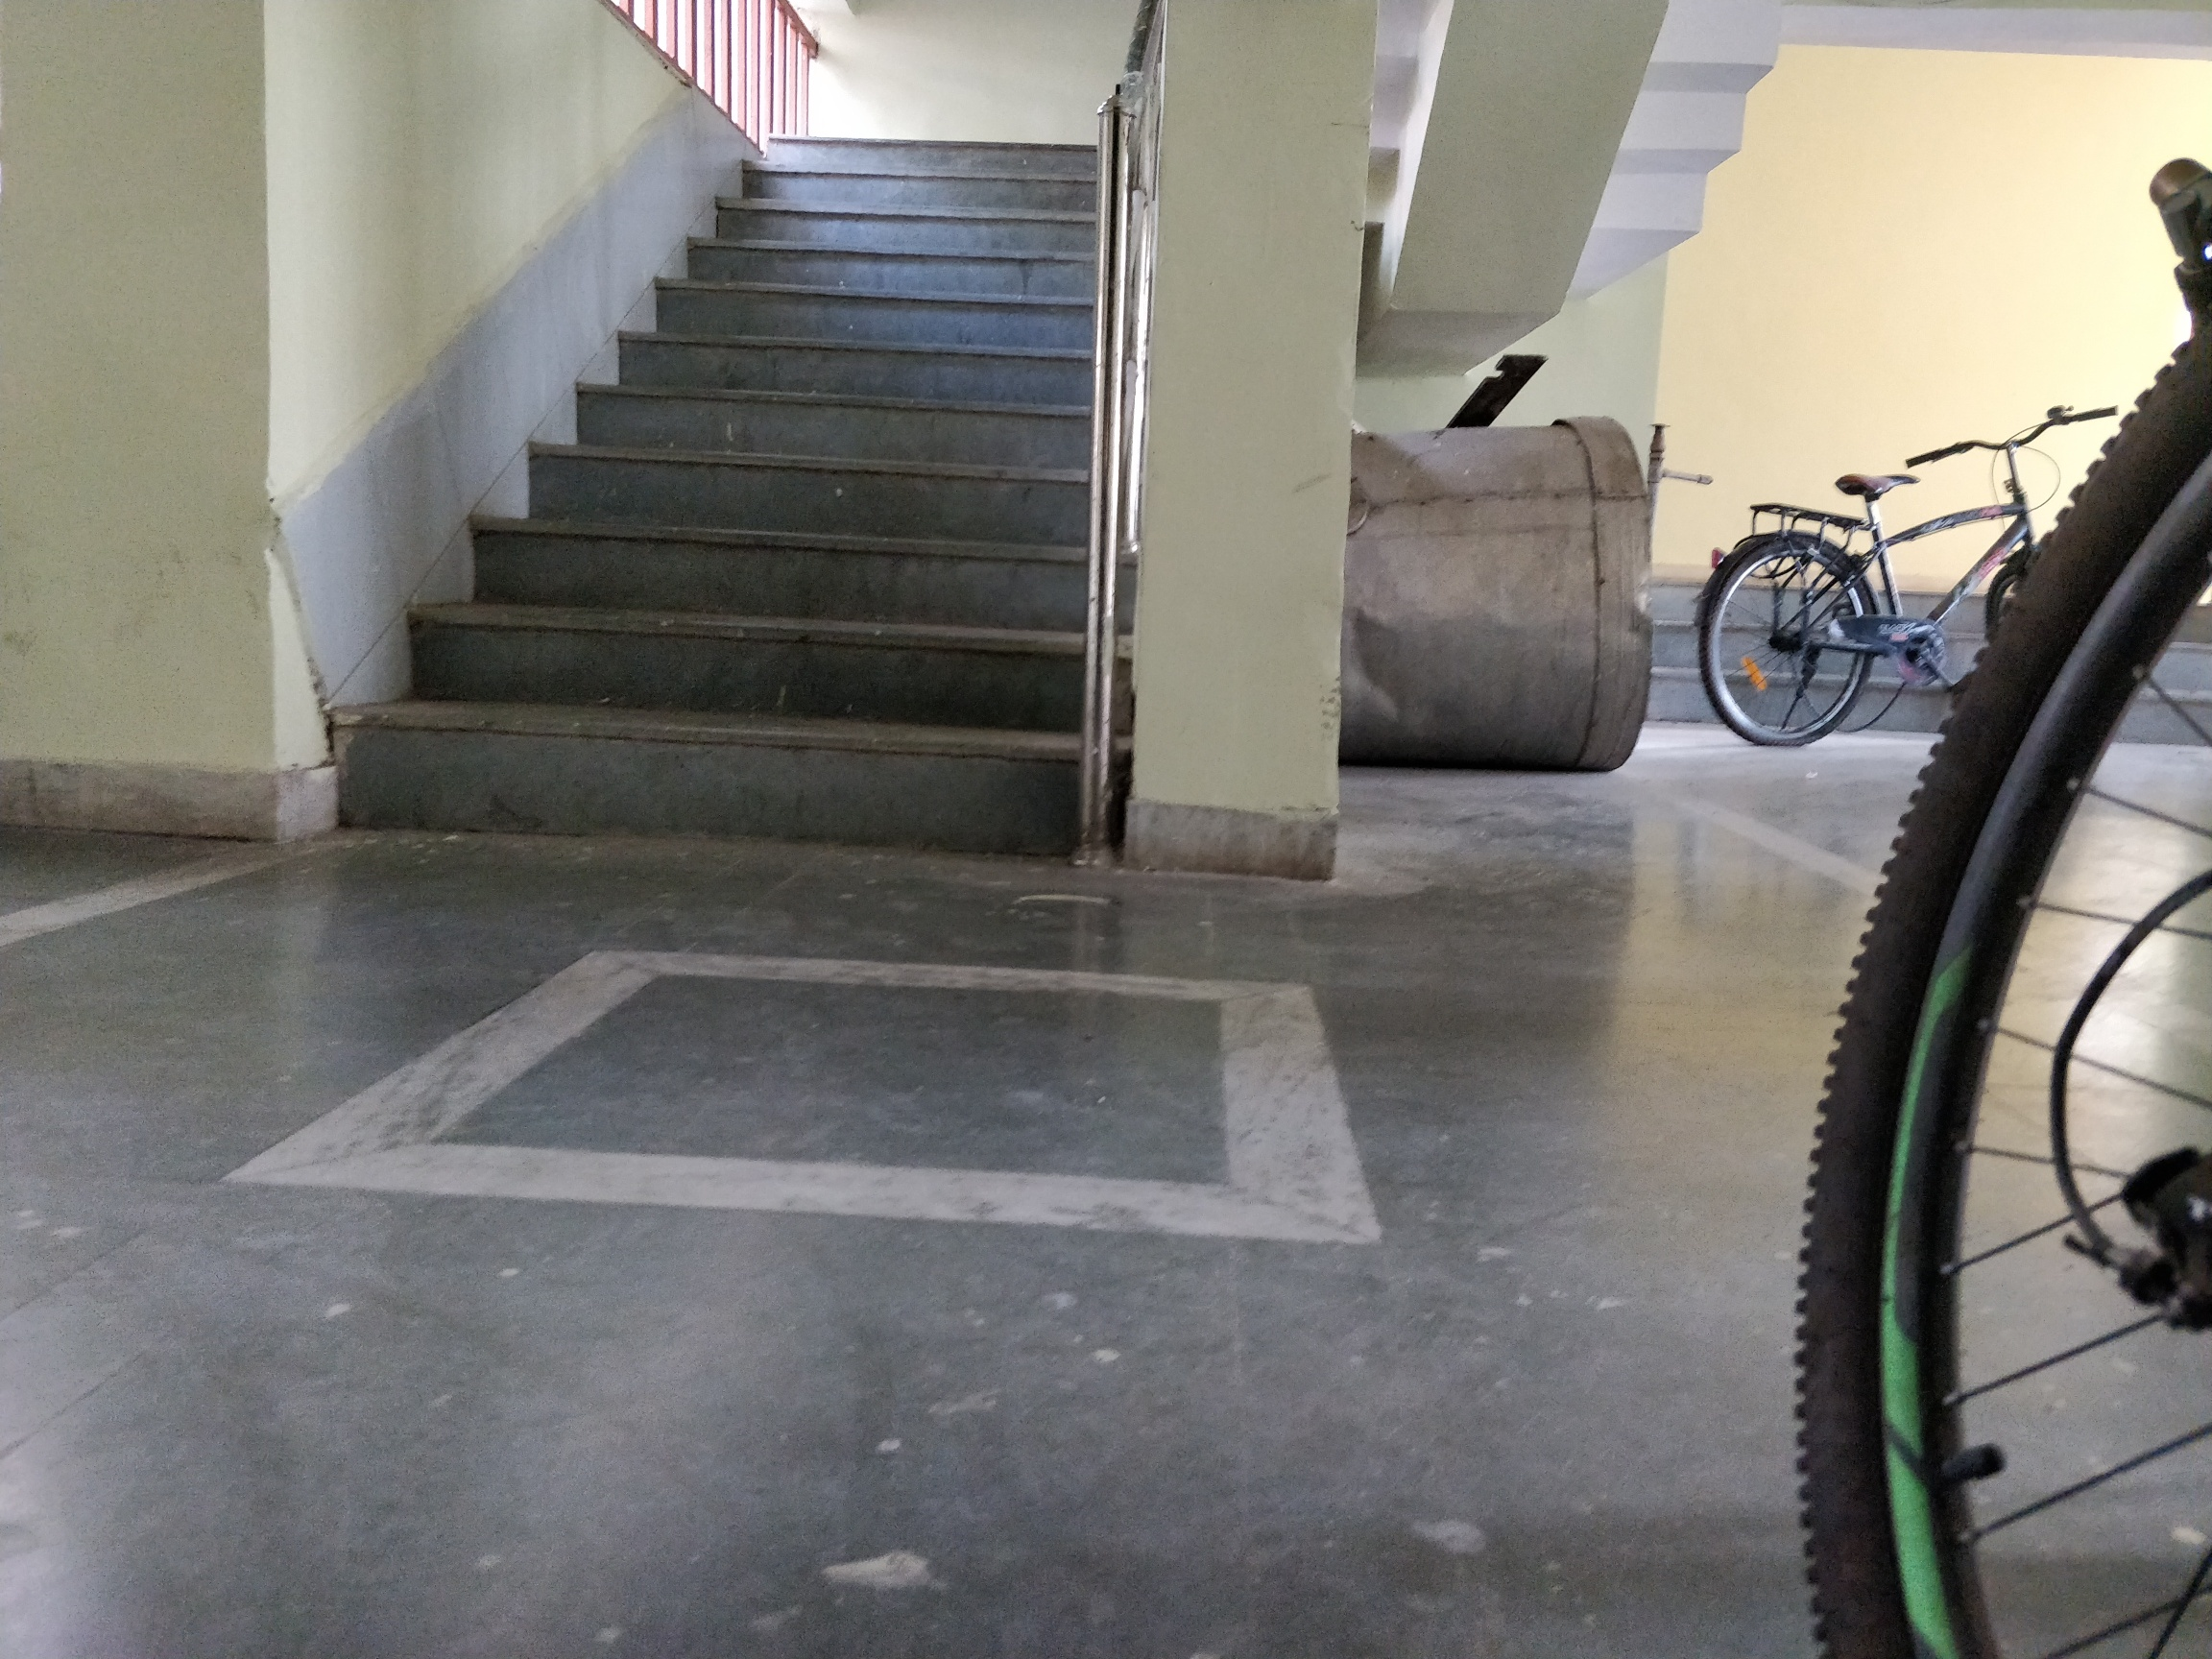stairs_up: (308, 105, 1122, 873)
